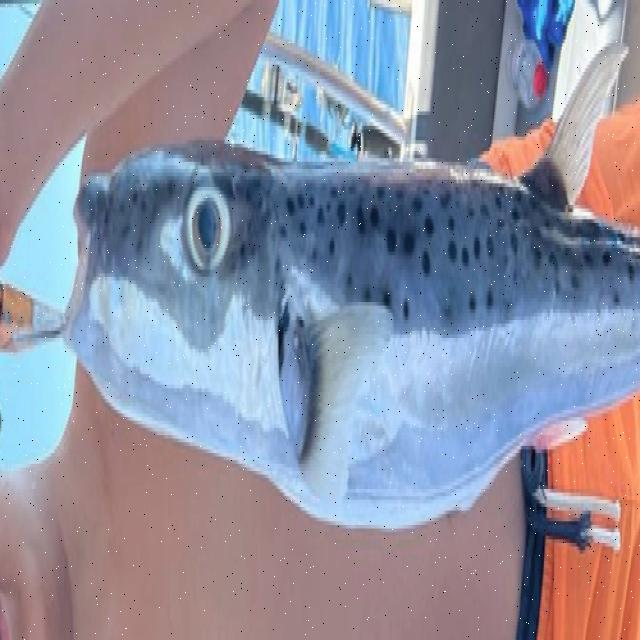Balik: (66, 47, 639, 528)
